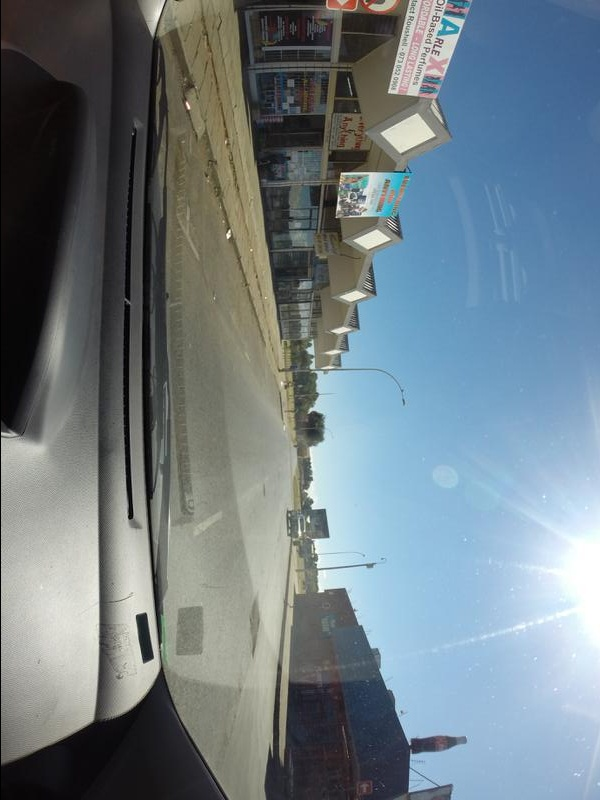pothole: (251, 596, 265, 656), (259, 484, 266, 499)
